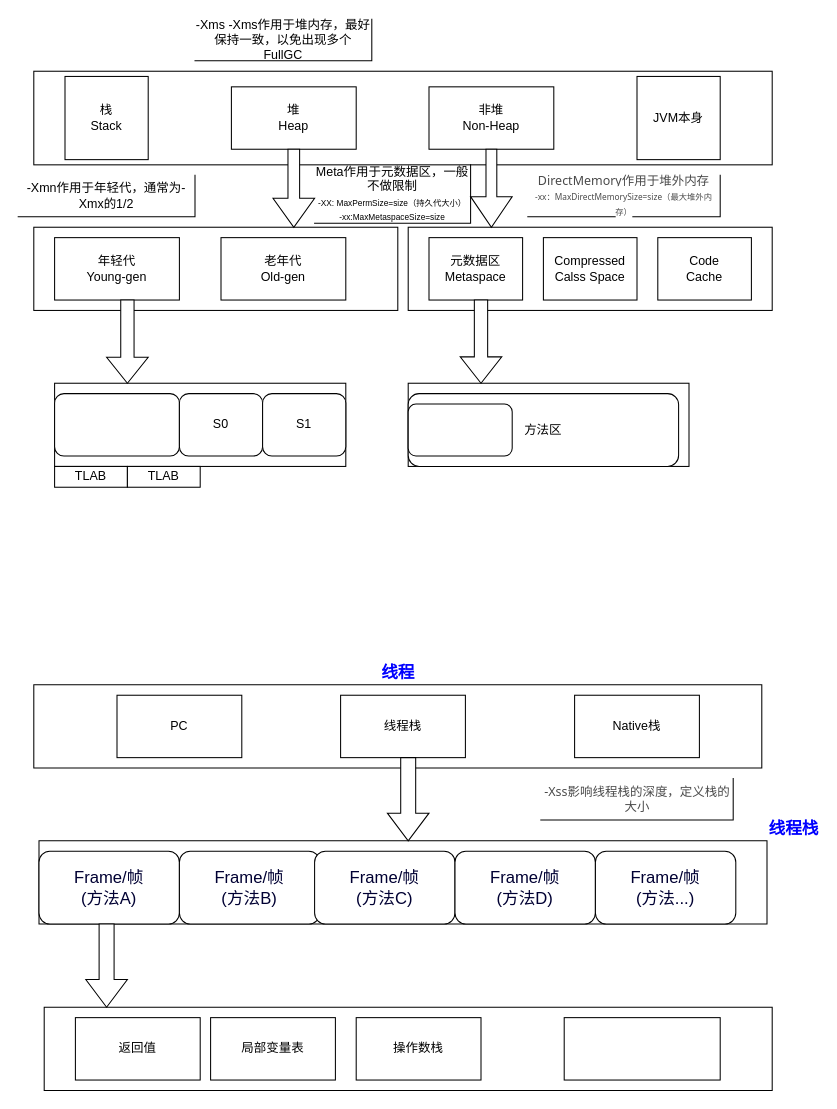
The diagram is 837 pixels wide and 1109 high, and some of its shapes have lost their labels. Here are the shapes that lost their labels. From the top down, the centre of each, then its label:
(116,424): 新生儿 Eden-Space
(459,429): 常量池
(641,1048): Class/Method指针
